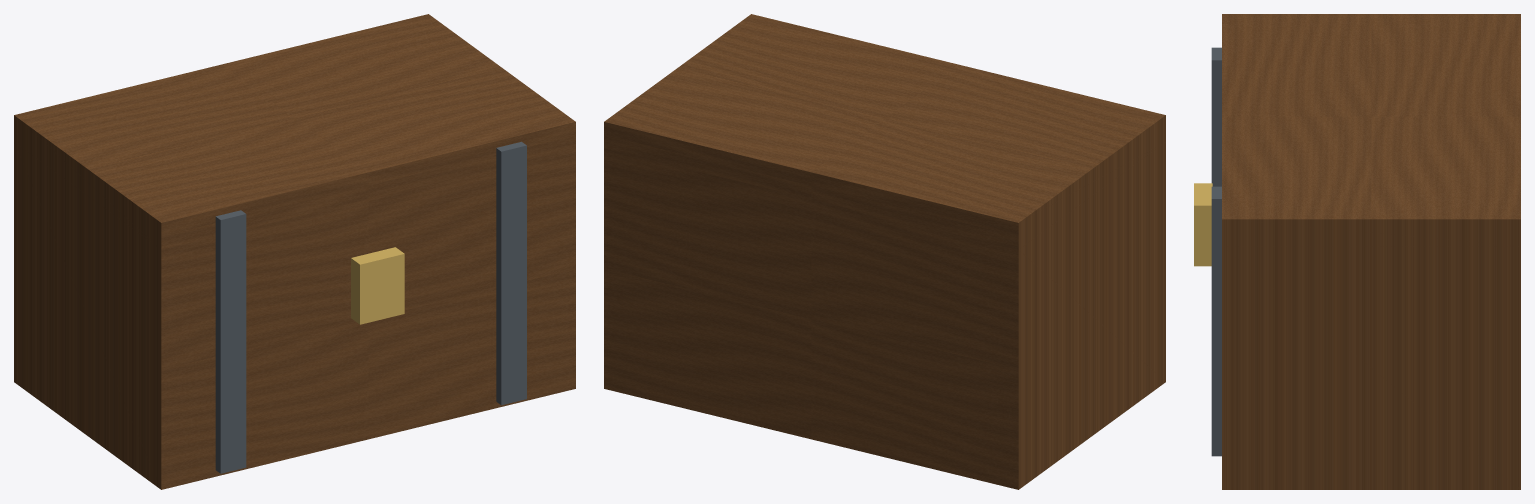
The model's file is chest.glb.
3 views of the same model, side by side, from view 1: azimuth 30°, elevation 25°; view 2: azimuth 150°, elevation 25°; view 3: azimuth 270°, elevation 25° (orthographic).
Visible parts, largest first — view 1: Chest, Lid, Chest strap, Chest strap.001, Lock; view 2: Chest, Lid; view 3: Chest, Lid, Chest strap.001, Chest strap, Lock.
Boxes of the visible parts, x1,y1,x2,y2 form: Chest: (14, 142, 575, 489); Lid: (14, 14, 575, 249); Chest strap: (215, 210, 246, 473); Chest strap.001: (496, 141, 526, 405); Lock: (351, 247, 404, 324); Chest: (604, 142, 1165, 489); Lid: (604, 14, 1165, 249); Chest: (1222, 246, 1520, 489); Lid: (1222, 14, 1520, 246); Chest strap.001: (1211, 186, 1221, 456); Chest strap: (1211, 47, 1221, 186); Lock: (1194, 183, 1212, 266).
Size of the model in its own units: 0.65 by 0.4 by 0.4375.
3 materials, 1 textured.
